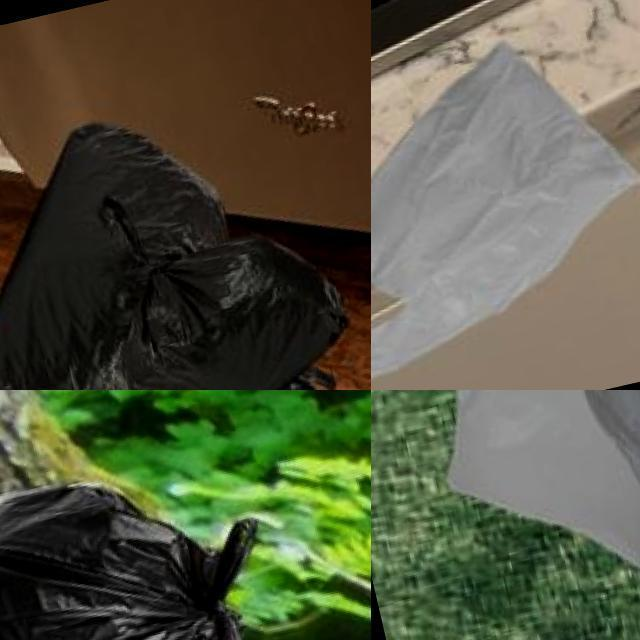waste: (371, 32, 640, 386), (0, 105, 256, 390), (0, 444, 284, 640), (373, 390, 640, 593), (89, 213, 353, 390), (532, 390, 640, 589)
